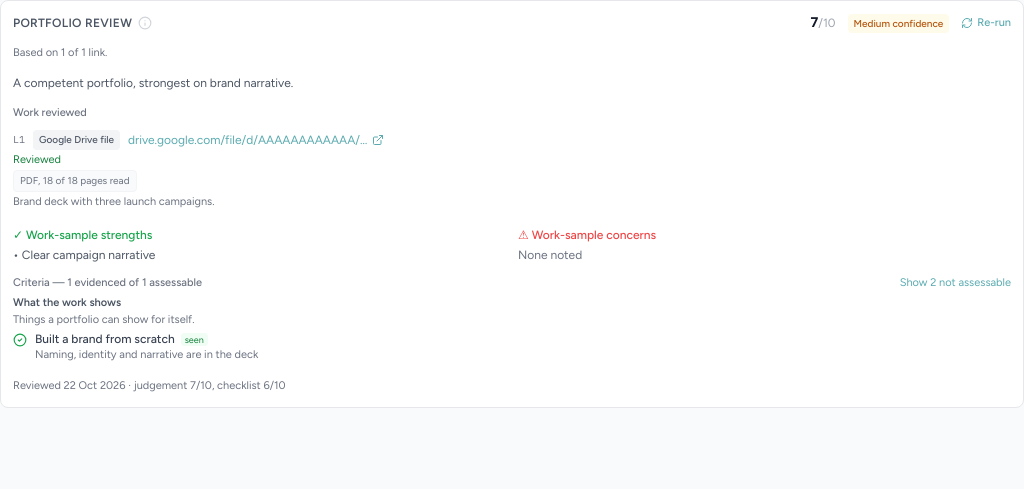
it: PortfolioReviewCard — marketing work samples: completed › the criteria › does not draw the corroboration group at all while it is all not assessable, and draws it once revealed
Expected: the text "A competent portfolio, strongest on brand narrative." is shown, [13,76,293,90]
Click the button "Show 2 not assessable" at (955, 283), box [900,275,1011,291]
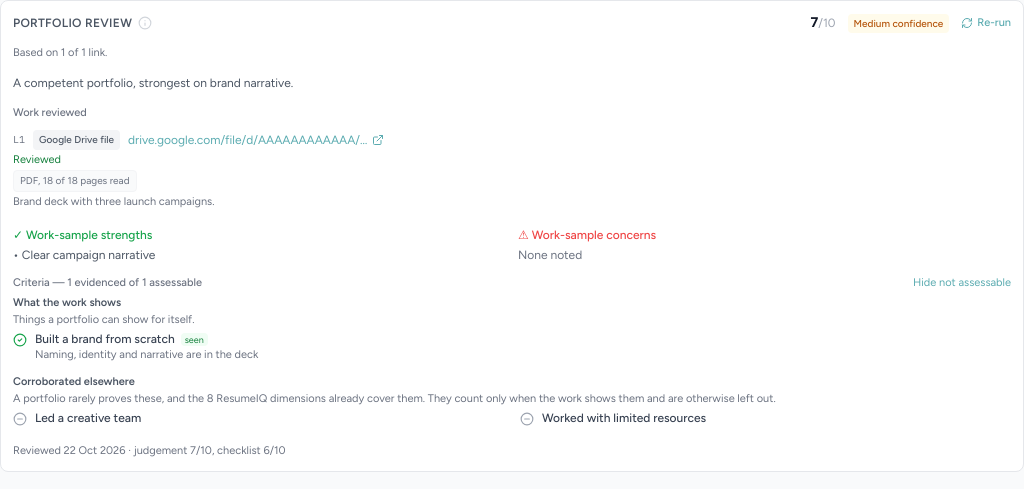
Expected: the element with test id "criteria-group-corroboration" is shown, [13,375,776,426]
